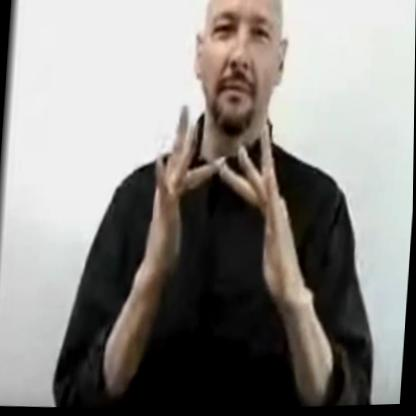Internet: (139, 87, 312, 305)
